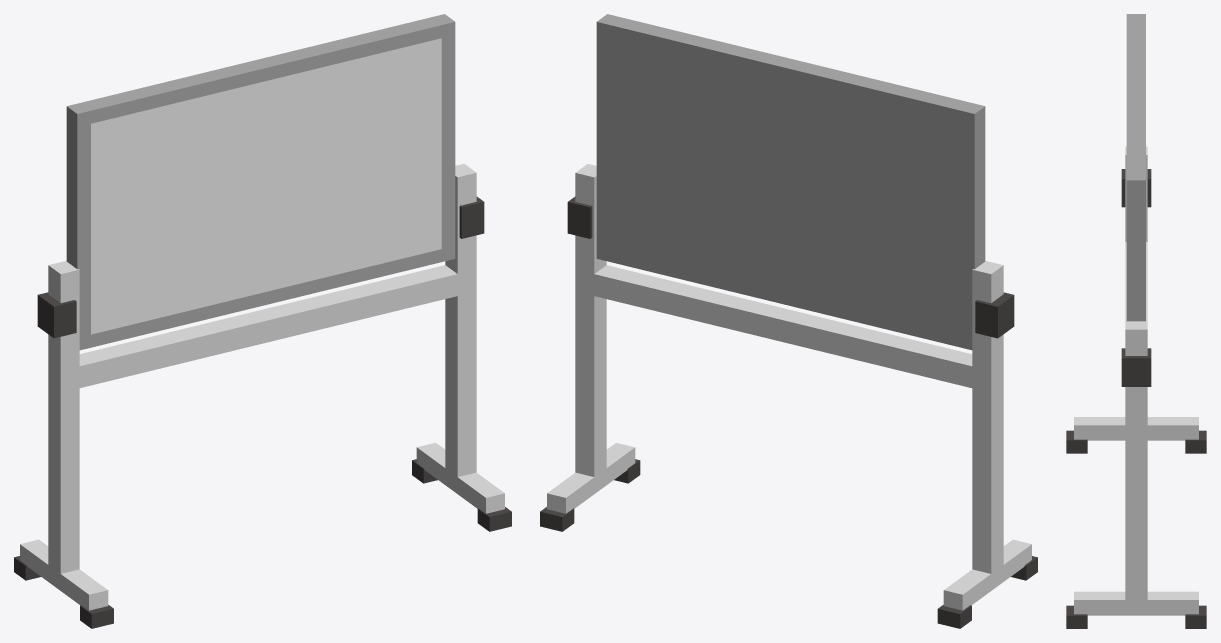
The picture shows the model from 3 angles, left to right: view 1: azimuth 30°, elevation 25°; view 2: azimuth 150°, elevation 25°; view 3: azimuth 270°, elevation 25°; orthographic projection. The views are drawn at different scales.
Visible parts, largest first — view 1: baiban1:polySurface342; view 2: baiban1:polySurface342; view 3: baiban1:polySurface342.
Boxes of the visible parts, box(x1,y1,x2,y2) form: baiban1:polySurface342: box(14, 14, 511, 628); baiban1:polySurface342: box(540, 14, 1037, 628); baiban1:polySurface342: box(1066, 14, 1206, 628).
Size of the model in its own units: 188 by 202 by 58.65.
